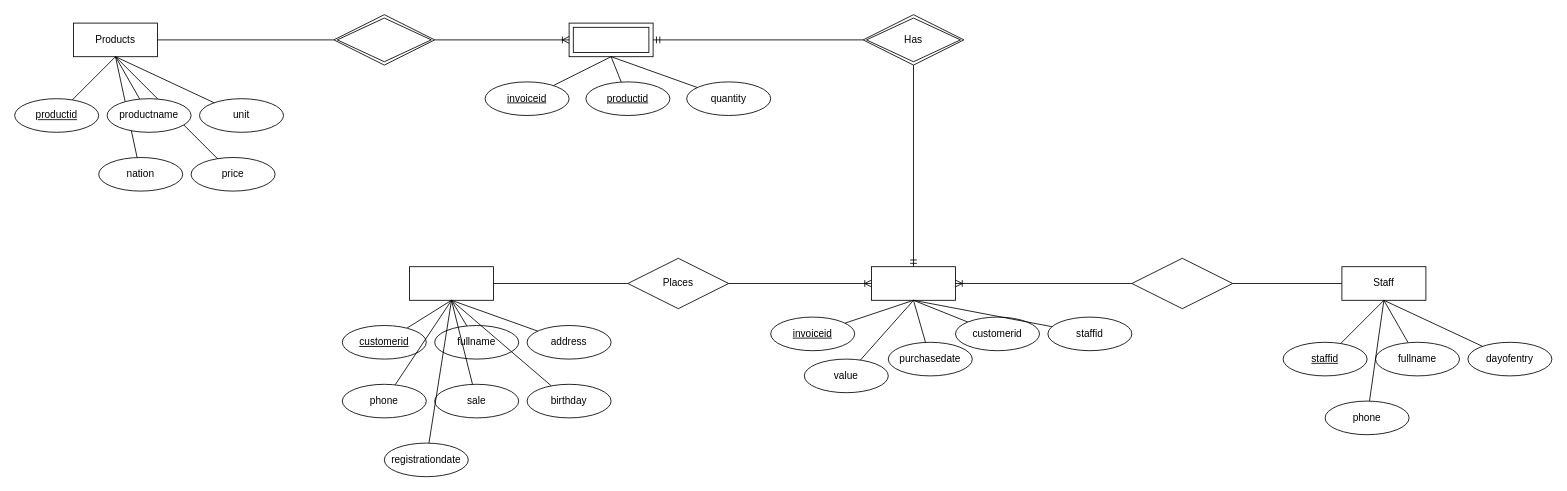
Some shapes in this 1567 by 491 pixel diagram are drawn without their labels. The centre of each missing label's shape, as x and y in pixels:
"Customers" belongs at pixel 451 283.
"Detailofinvoice" belongs at pixel 610 39.
"handles" belongs at pixel 1182 283.
"includes" belongs at pixel 384 39.
"Invoice" belongs at pixel 913 283.
